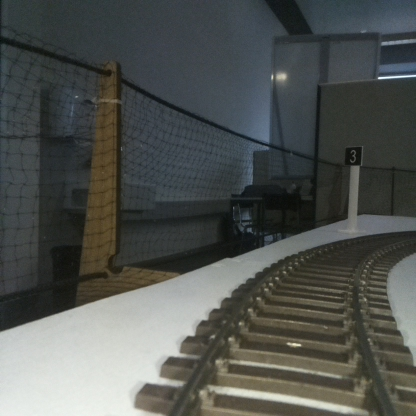black-info-3: (345, 146, 361, 230)
